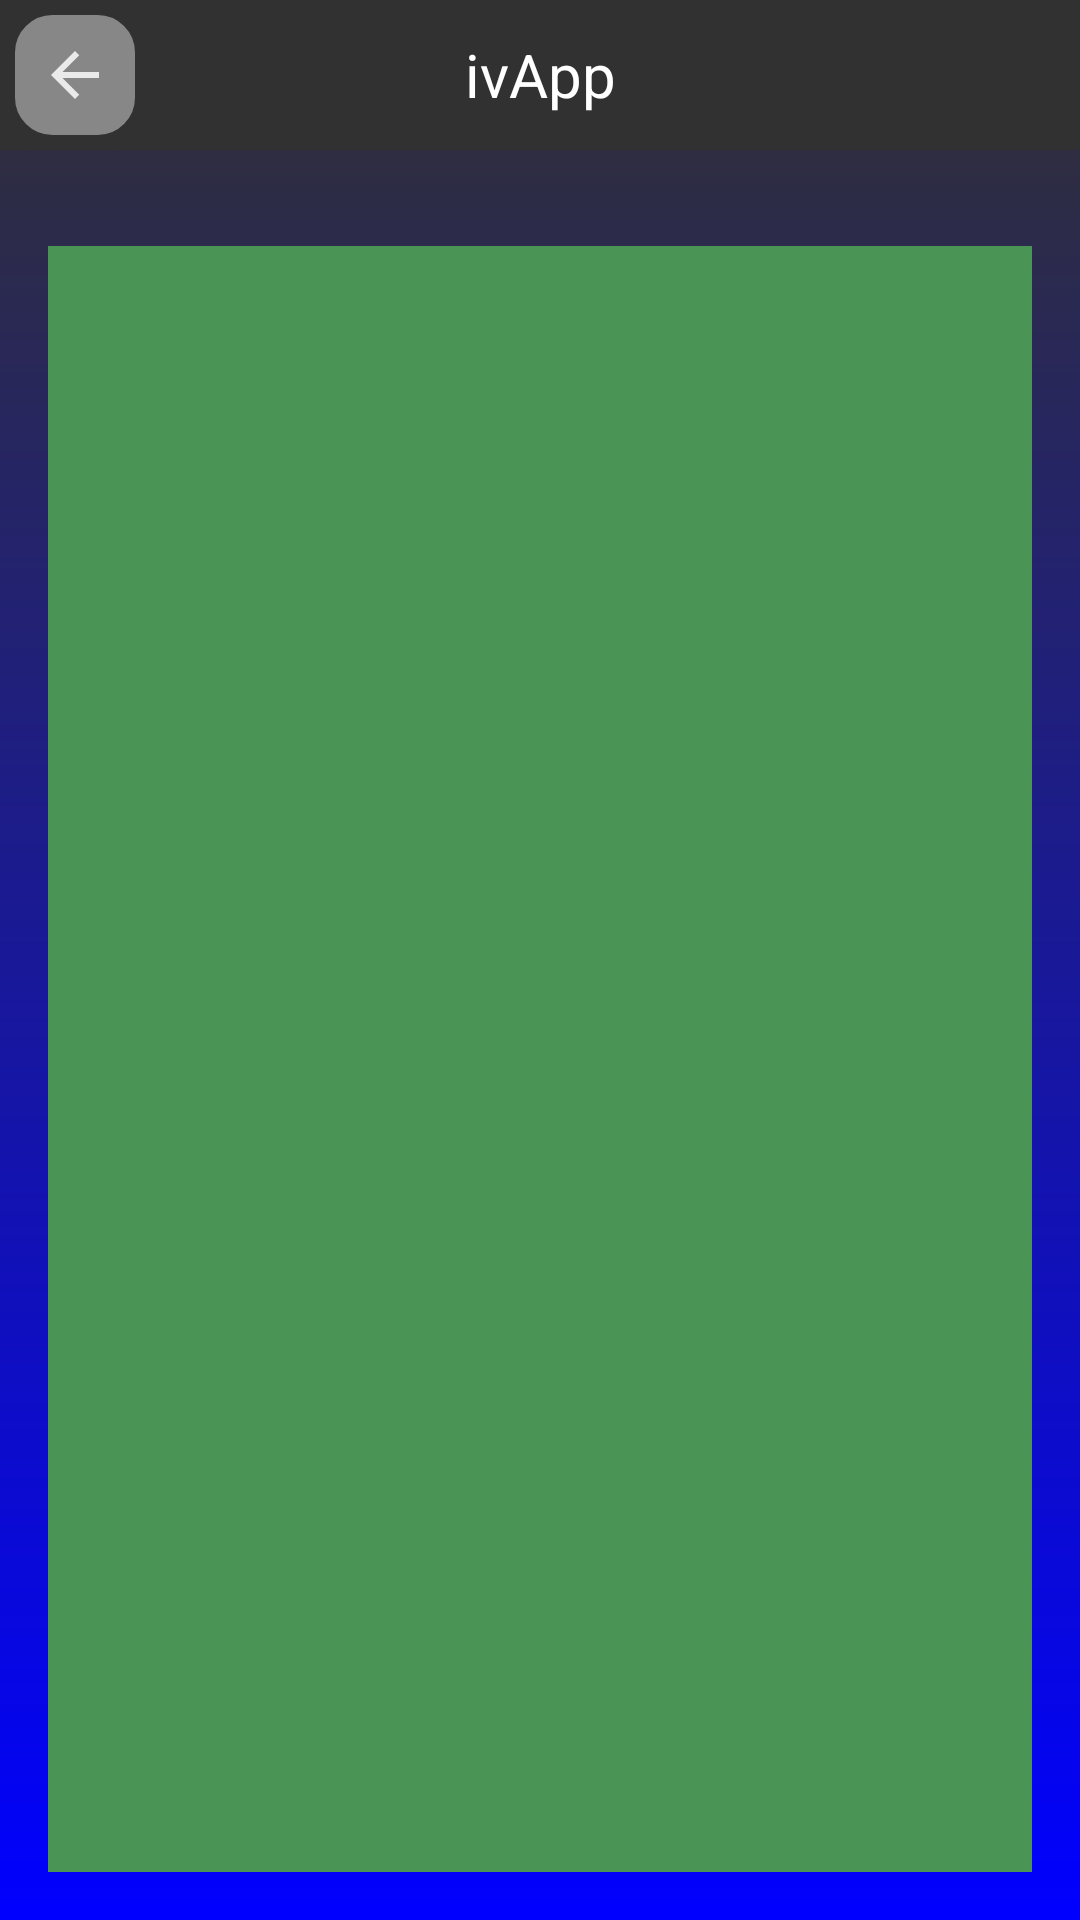

Where icons sit on this 1080x1920 app screen, as BBox(x1, y1, x2, y2):
arrow back: BBox(15, 15, 135, 135)
